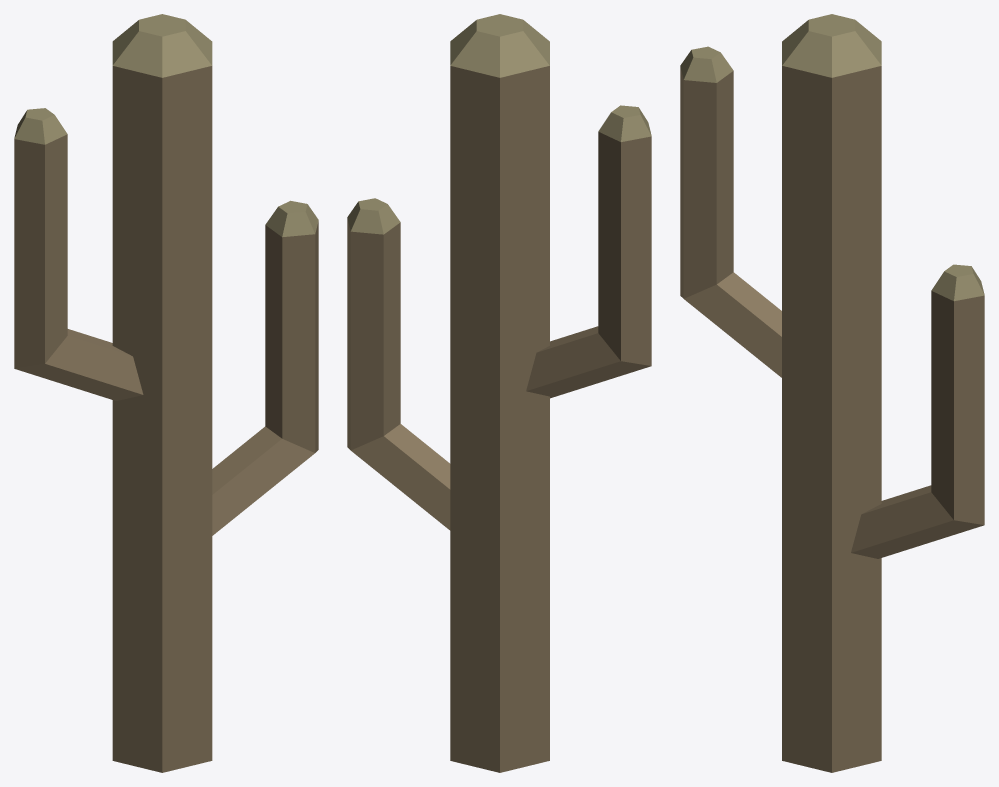
The model's file is TB_D_Env_CactusC_B.FBX.
3 views of the same model, side by side, from view 1: azimuth 30°, elevation 25°; view 2: azimuth 150°, elevation 25°; view 3: azimuth 330°, elevation 25° (orthographic).
Visible parts, largest first — view 1: TB_D_Env_CactusC_B; view 2: TB_D_Env_CactusC_B; view 3: TB_D_Env_CactusC_B.
Boxes of the visible parts, x1,y1,x2,y2 form: TB_D_Env_CactusC_B: (14,14,318,772); TB_D_Env_CactusC_B: (347,14,651,772); TB_D_Env_CactusC_B: (680,14,984,772).
Size of the model in its own units: 1.83 by 4.16 by 0.5196.
